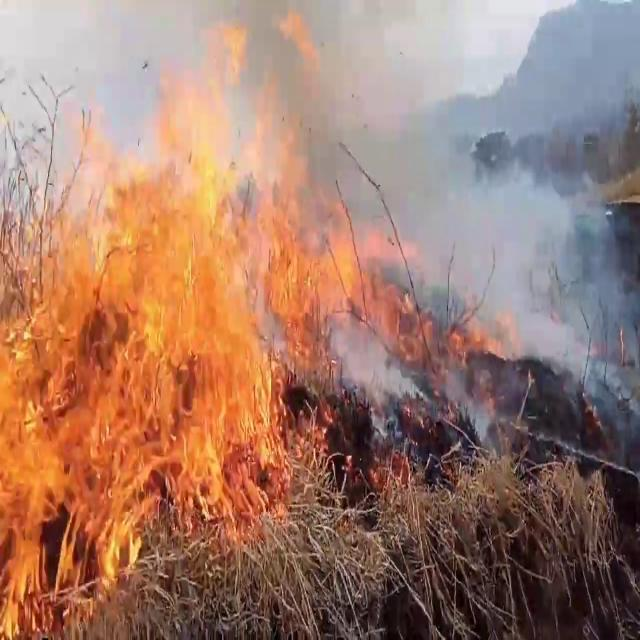Fire: (0, 9, 402, 620)
Smoke: (361, 4, 640, 436)
